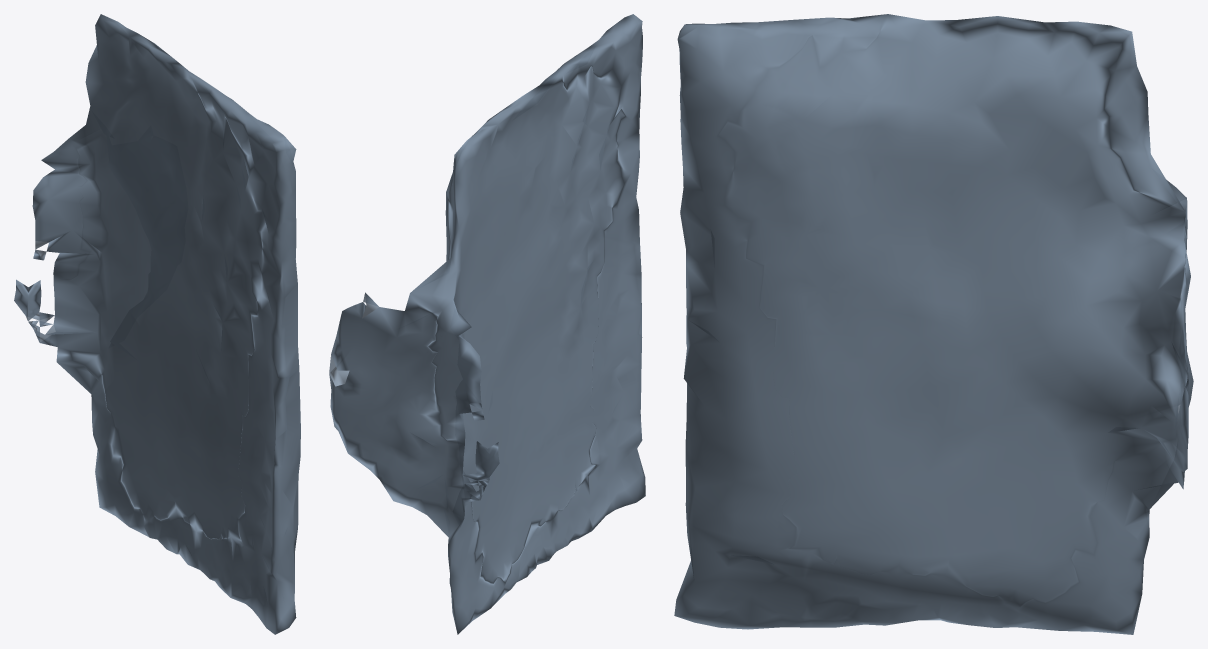
Rendered from monitor_0361_recon.obj.
3 renders of one model, left to right at view 1: azimuth 30°, elevation 25°; view 2: azimuth 150°, elevation 25°; view 3: azimuth 270°, elevation 25°, orthographic. The views are drawn at different scales.
Size of the model in its own units: 0.5695 by 1.57 by 1.2.
